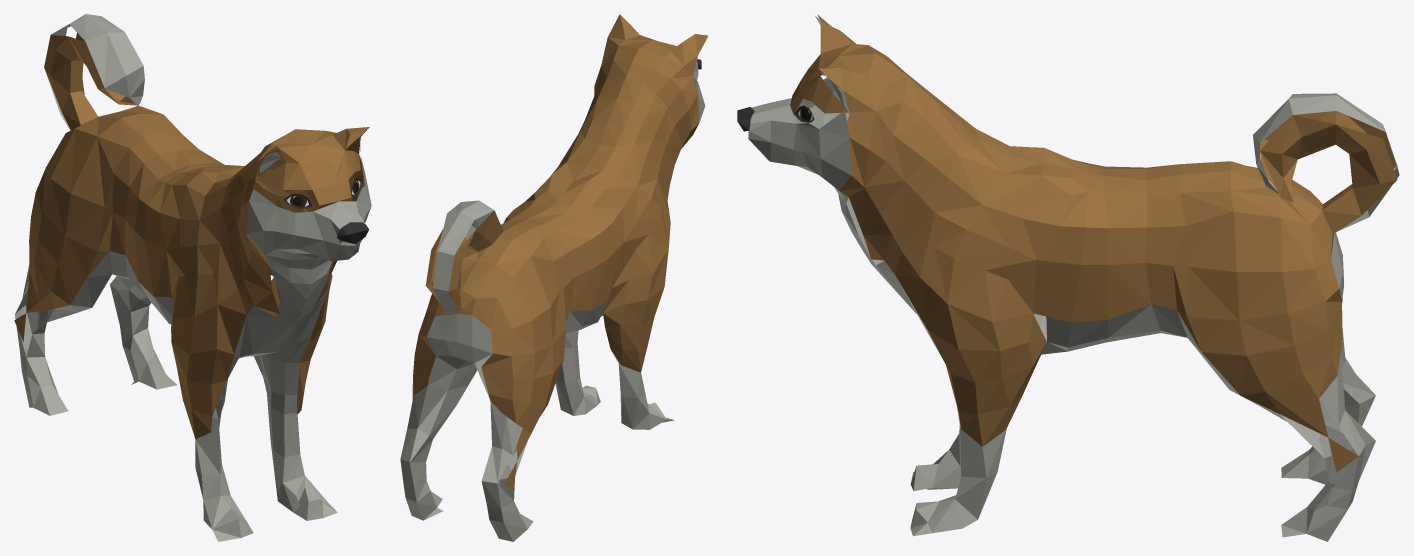
The model's file is ShibaInu_true_lowpoly_static.glb.
3 renders of one model, left to right at view 1: azimuth 30°, elevation 25°; view 2: azimuth 150°, elevation 25°; view 3: azimuth 270°, elevation 25°, orthographic. The views are drawn at different scales.
Parts seen in each view (by area): view 1: Cube, Cube_2, Cube_1; view 2: Cube, Cube_2; view 3: Cube, Cube_2.
Boxes of the visible parts, x1,y1,x2,y2 form: Cube: [14, 33, 369, 439]; Cube_2: [15, 14, 371, 541]; Cube_1: [283, 178, 368, 243]; Cube: [412, 14, 708, 490]; Cube_2: [400, 34, 706, 541]; Cube: [790, 14, 1397, 472]; Cube_2: [748, 16, 1399, 541].
Size of the model in its own units: 1.04 by 3.07 by 3.94.
